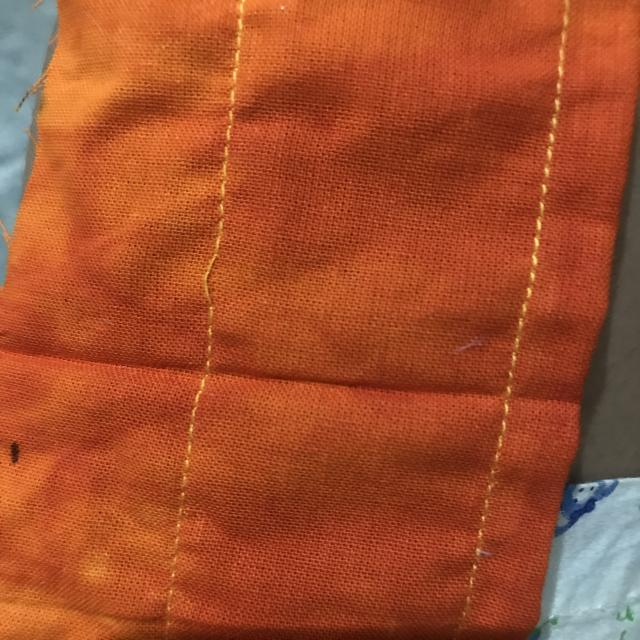good: (538, 84, 568, 213), (175, 402, 209, 481), (211, 114, 236, 209)
skip: (176, 237, 227, 310)
